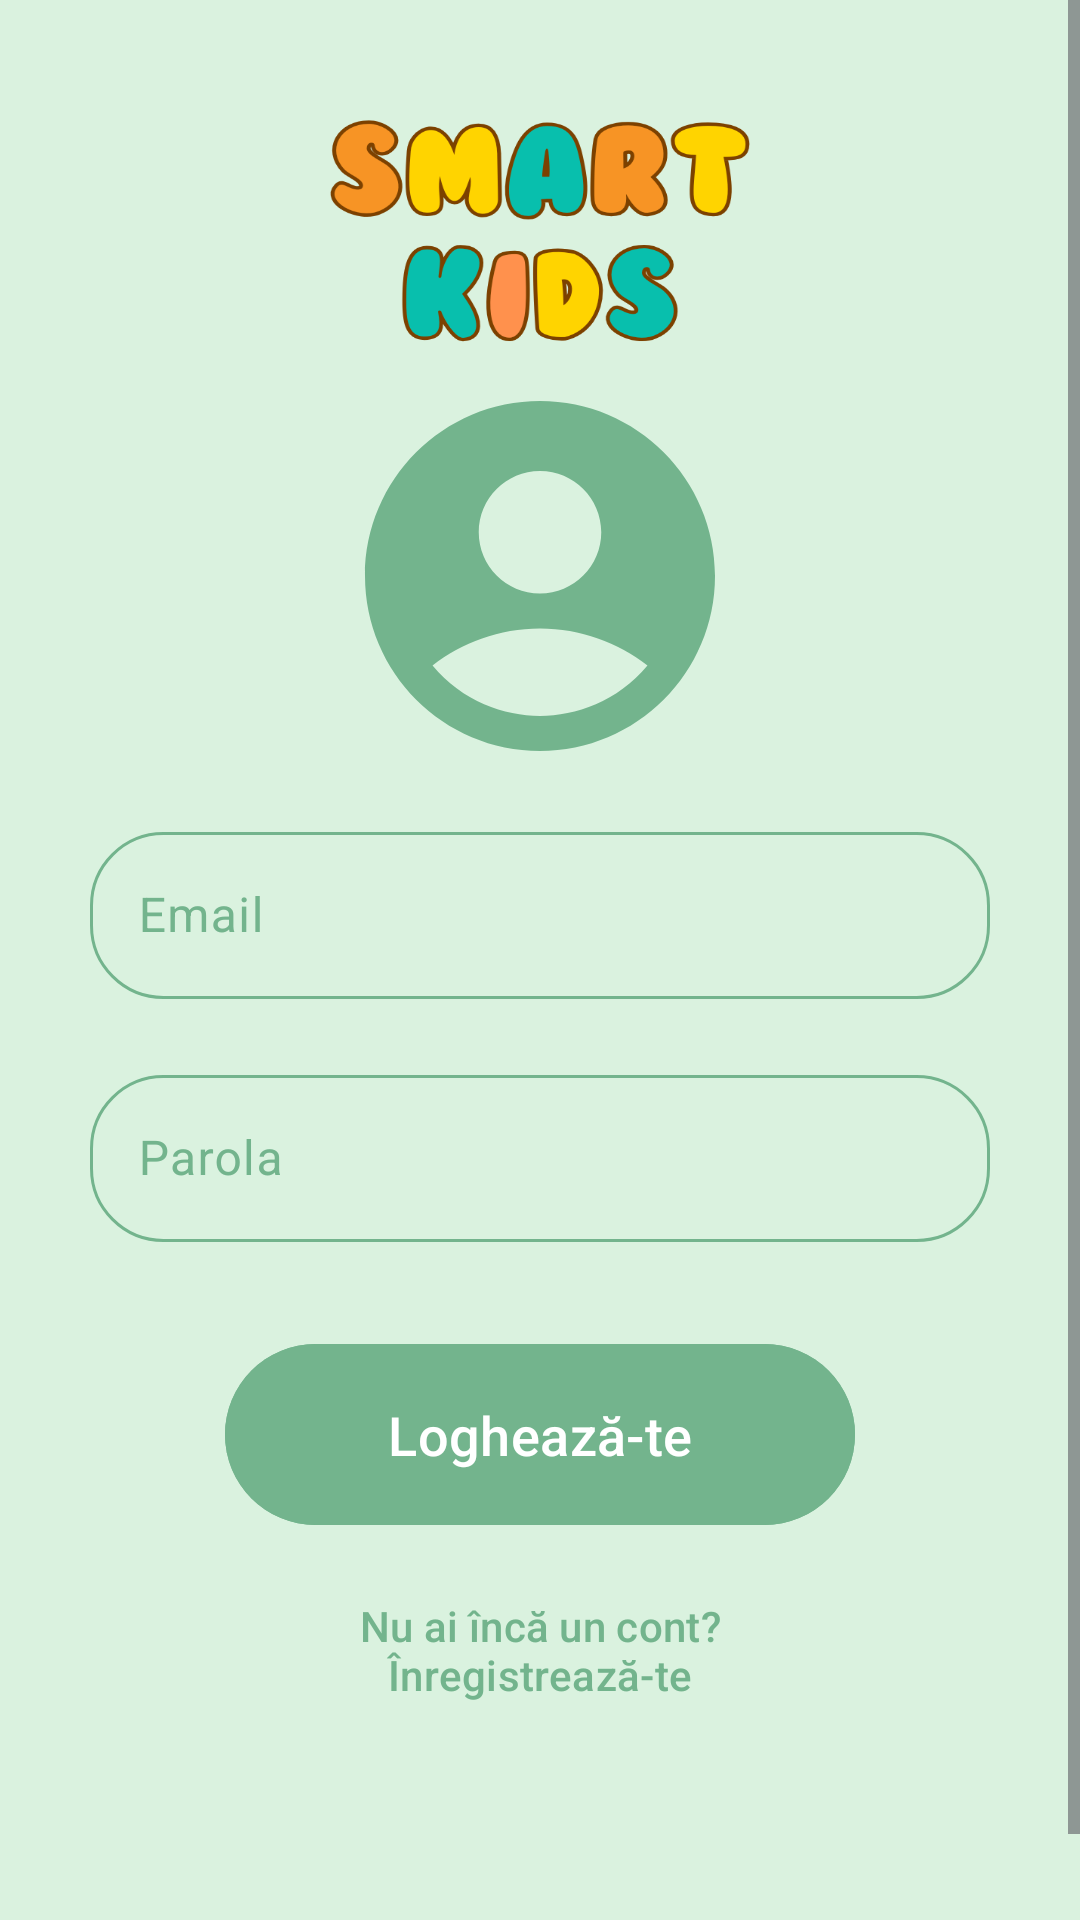

Screen size 1080px×1920px. Icon name, then its center in pixels as [x,y]:
account circle: [540,576]
